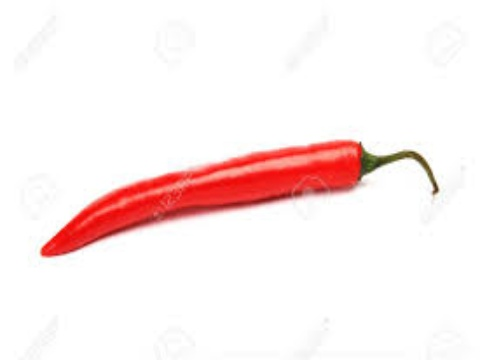Chilli: (20, 129, 448, 268)
